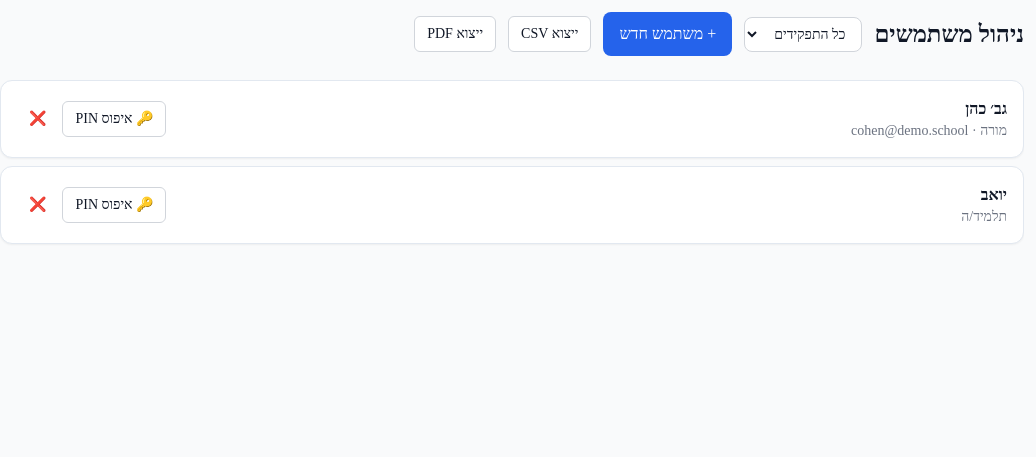
UsersManager › shows PIN display after reset
Expected: the text "גב׳ כהן" is shown, top-left (965, 100), bottom-right (1007, 117)
What coordinates should you click on to do the following:
click the button with aria-label "אפס PIN לגב׳ כהן"
I would click on:
 (114, 119)
Its box is top-left (62, 101), bottom-right (166, 137).
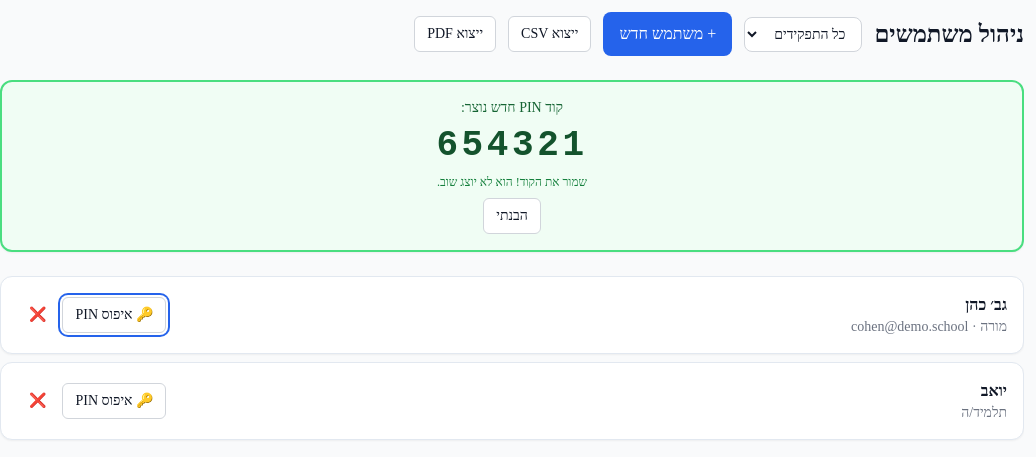
Result: the text "654321" is shown at top-left (436, 125), bottom-right (588, 166)
